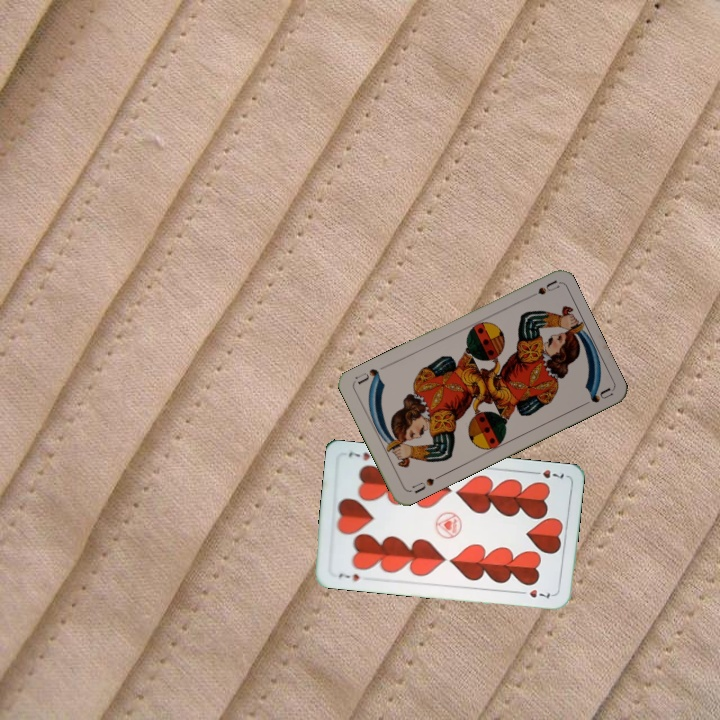H7: (528, 466, 566, 481), (335, 569, 362, 584)
SU: (521, 276, 561, 302), (408, 471, 444, 496)
